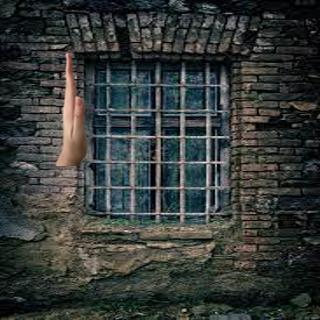Right: (50, 45, 95, 160)
